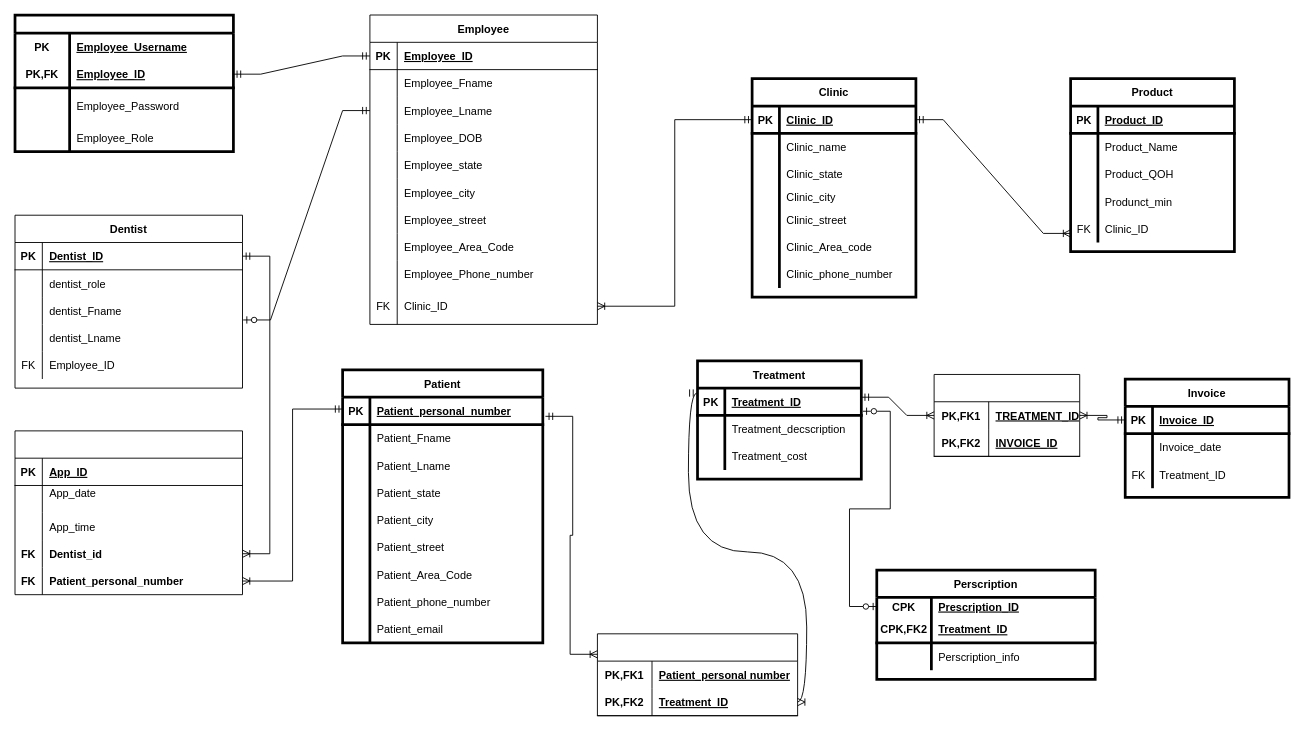
This 1304x731 diagram has some shape labels left out. Each missing label, with the box of its shape:
Appointment: (14, 430, 243, 595)
INVOICE_TREATMENT: (933, 374, 1080, 456)
Login: (13, 13, 234, 152)
Patient-Treatement: (597, 633, 798, 716)
